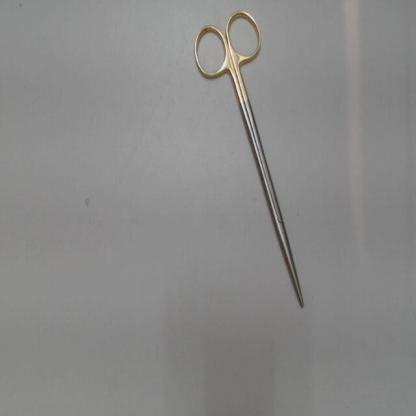7 Metzenbaum Scissors: (192, 7, 306, 308)
